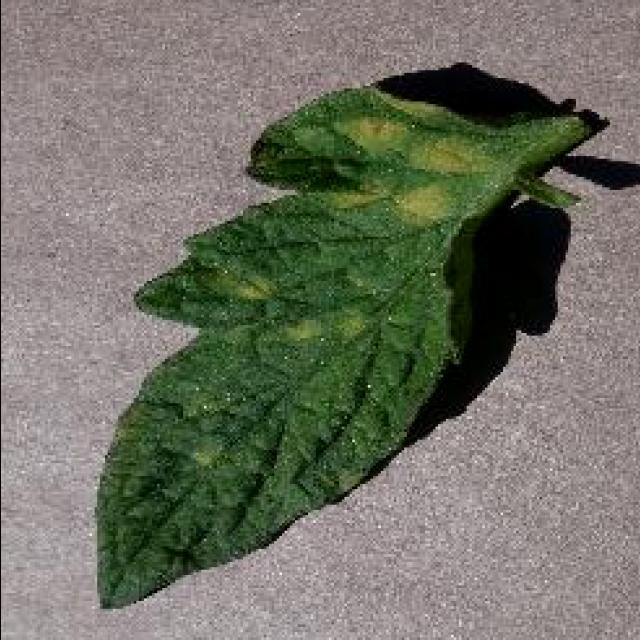leaf mold: (90, 85, 592, 610)
